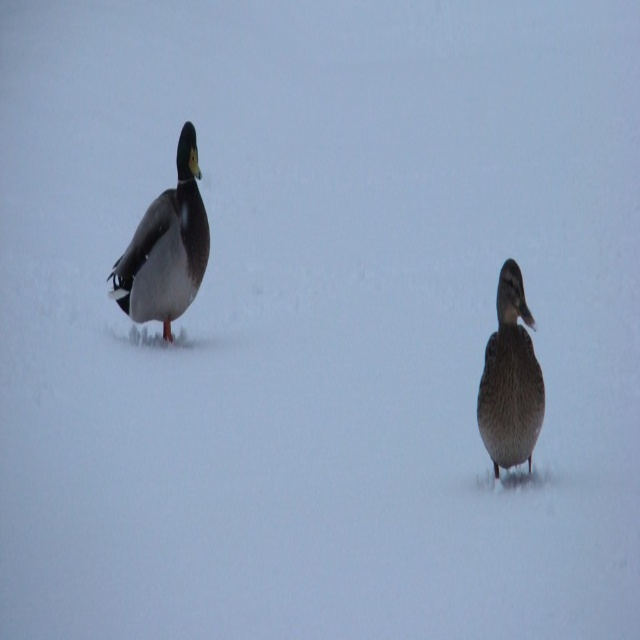Duck: (103, 105, 209, 334), (469, 255, 555, 505)
